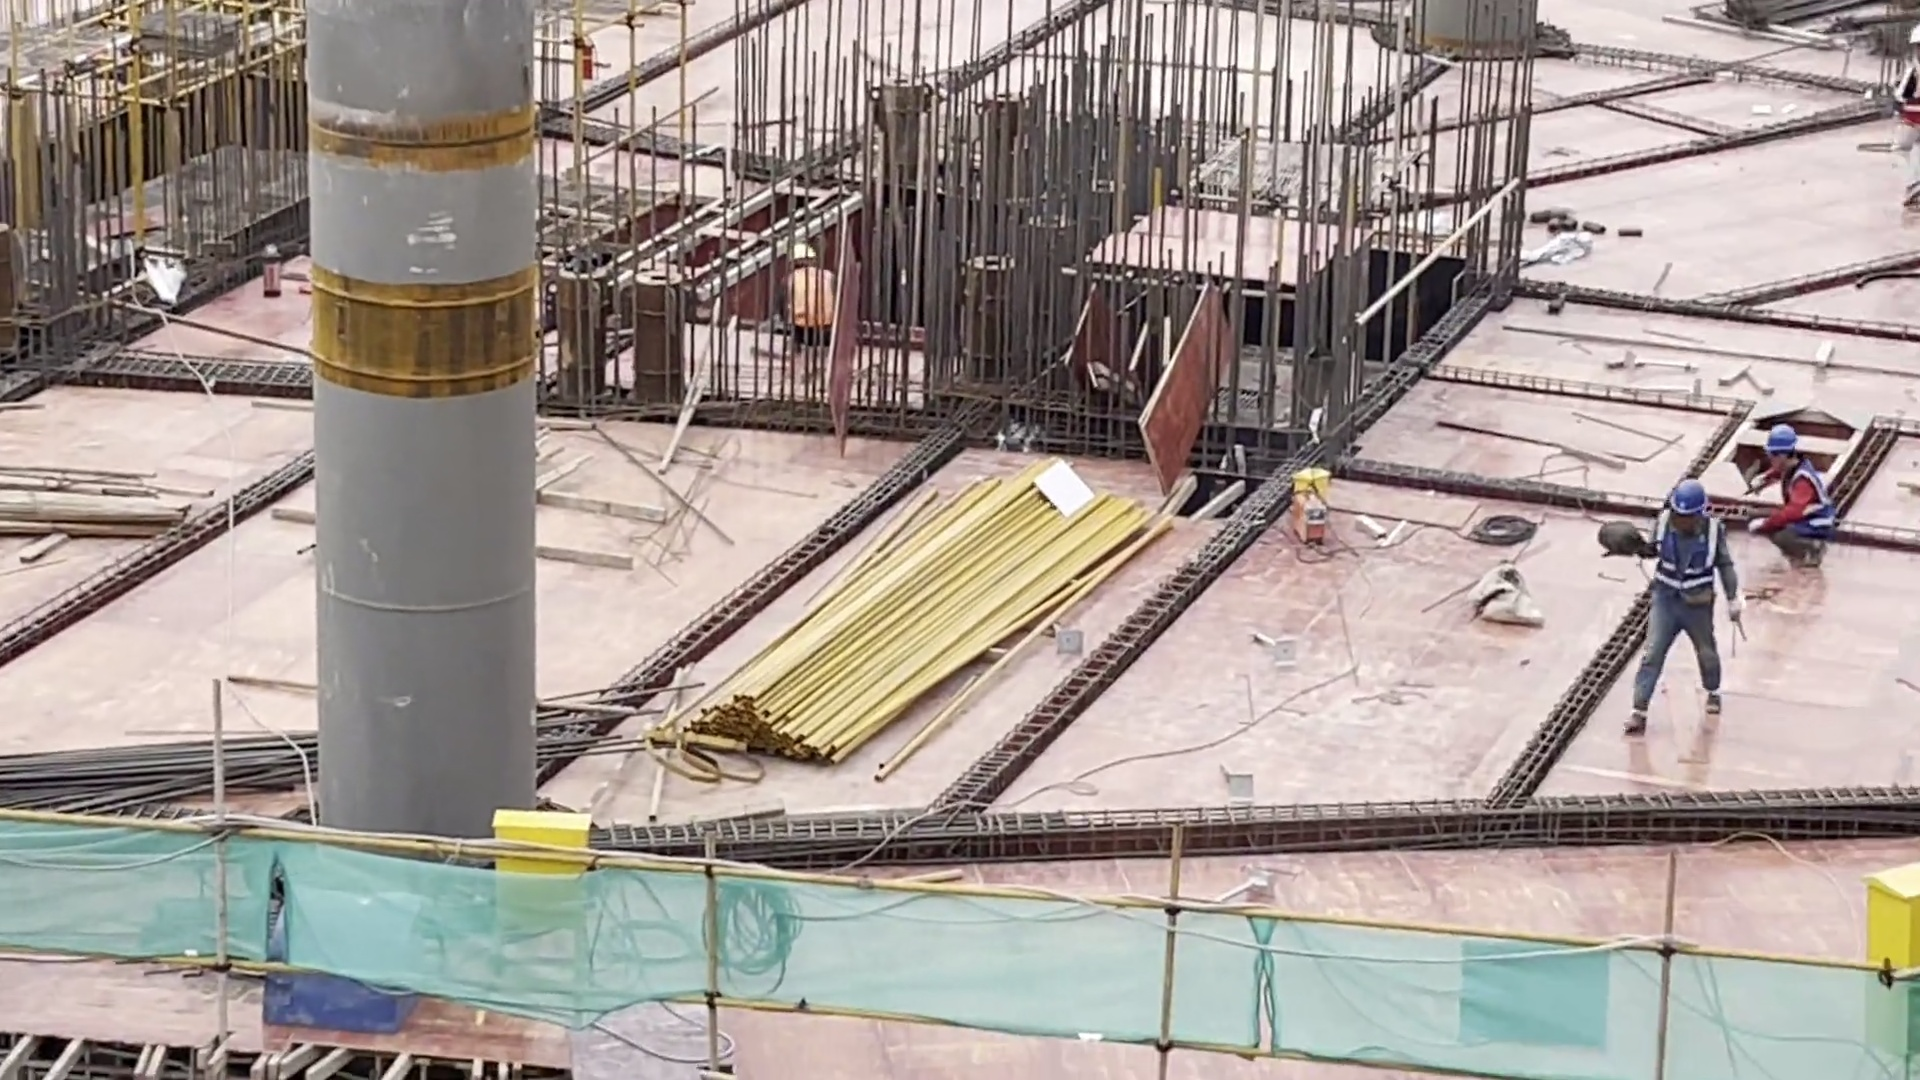ebox: (488, 806, 595, 999), (1860, 856, 1920, 1076)
helmet: (1668, 481, 1707, 519), (1763, 425, 1798, 456)
person: (1628, 485, 1746, 739), (1749, 426, 1831, 563), (1882, 28, 1920, 206), (788, 236, 837, 332)
vest: (1656, 508, 1720, 596), (1783, 461, 1841, 536)
